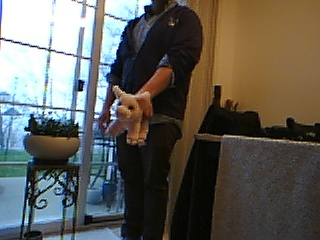piggy: (104, 83, 153, 150)
